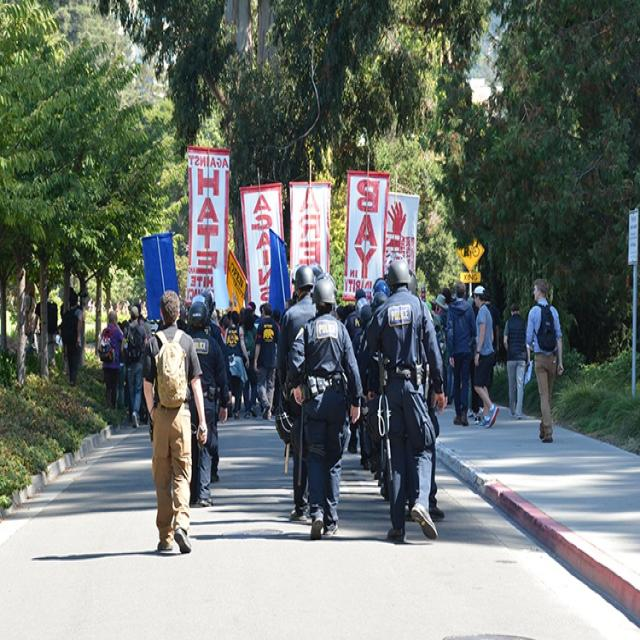body: (363, 255, 448, 545), (286, 276, 365, 542), (138, 285, 210, 557), (334, 270, 392, 492), (401, 264, 450, 521), (262, 368, 334, 524), (276, 262, 318, 522), (183, 293, 230, 510), (199, 284, 234, 488), (524, 275, 566, 443), (111, 301, 166, 429), (445, 280, 478, 429), (470, 283, 500, 433), (175, 290, 280, 330), (119, 304, 151, 432), (343, 287, 367, 454), (279, 257, 335, 328), (473, 284, 501, 416), (501, 298, 531, 421), (53, 286, 90, 382), (251, 303, 281, 421), (406, 268, 476, 312), (223, 308, 250, 422), (425, 312, 456, 411), (213, 369, 262, 431), (96, 309, 124, 412), (58, 288, 86, 389), (28, 284, 58, 366), (240, 312, 259, 421), (463, 383, 484, 425)
